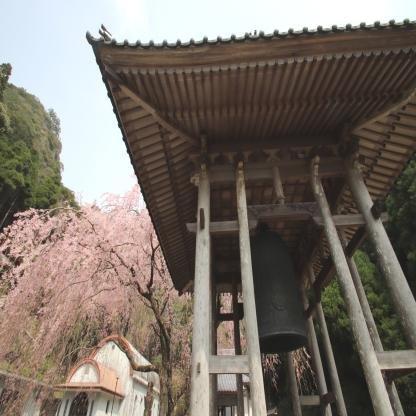ShidareZakura: (0, 169, 317, 416)
